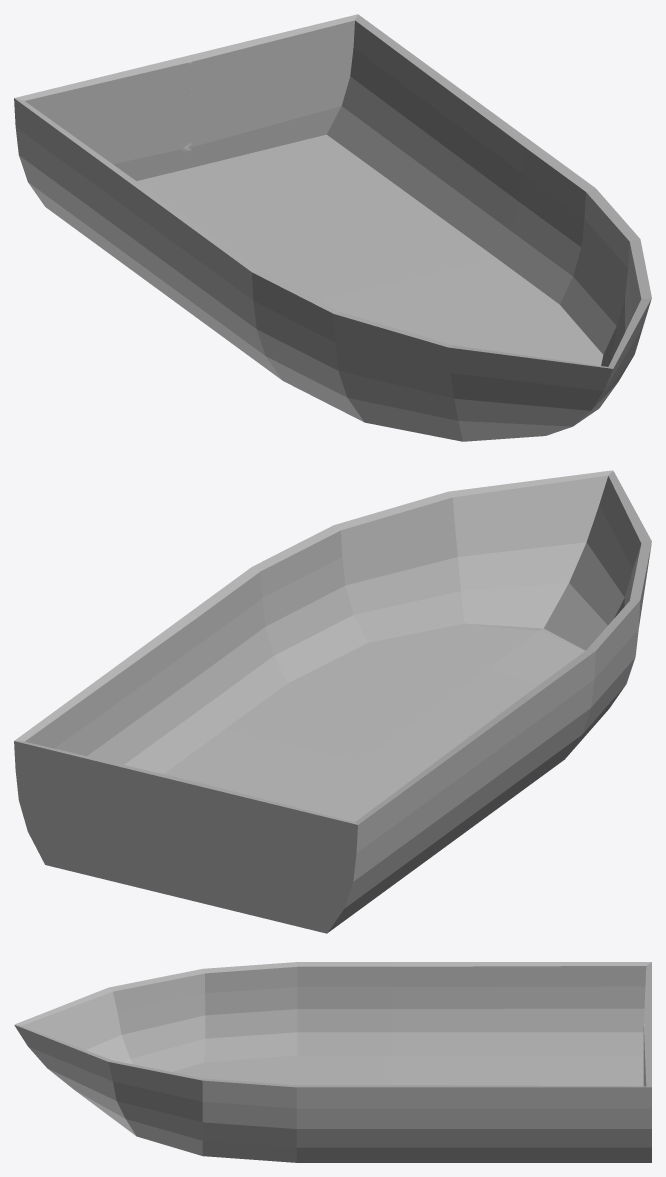
The model's file is Barca_base.obj.
3 renders of one model, top to bottom at view 1: azimuth 30°, elevation 25°; view 2: azimuth 150°, elevation 25°; view 3: azimuth 270°, elevation 25°, orthographic. The views are drawn at different scales.
Parts seen in each view (by area): view 1: Base; view 2: Base; view 3: Base.
Part boxes in pixels (left/top/right/bottom): Base: left=14, top=14, right=651, bottom=441; Base: left=14, top=470, right=651, bottom=933; Base: left=14, top=962, right=651, bottom=1162.
Bounding box in the file's own units: 9.69 × 3.13 × 20.84.
Materials: 1 (1 with a texture image).
